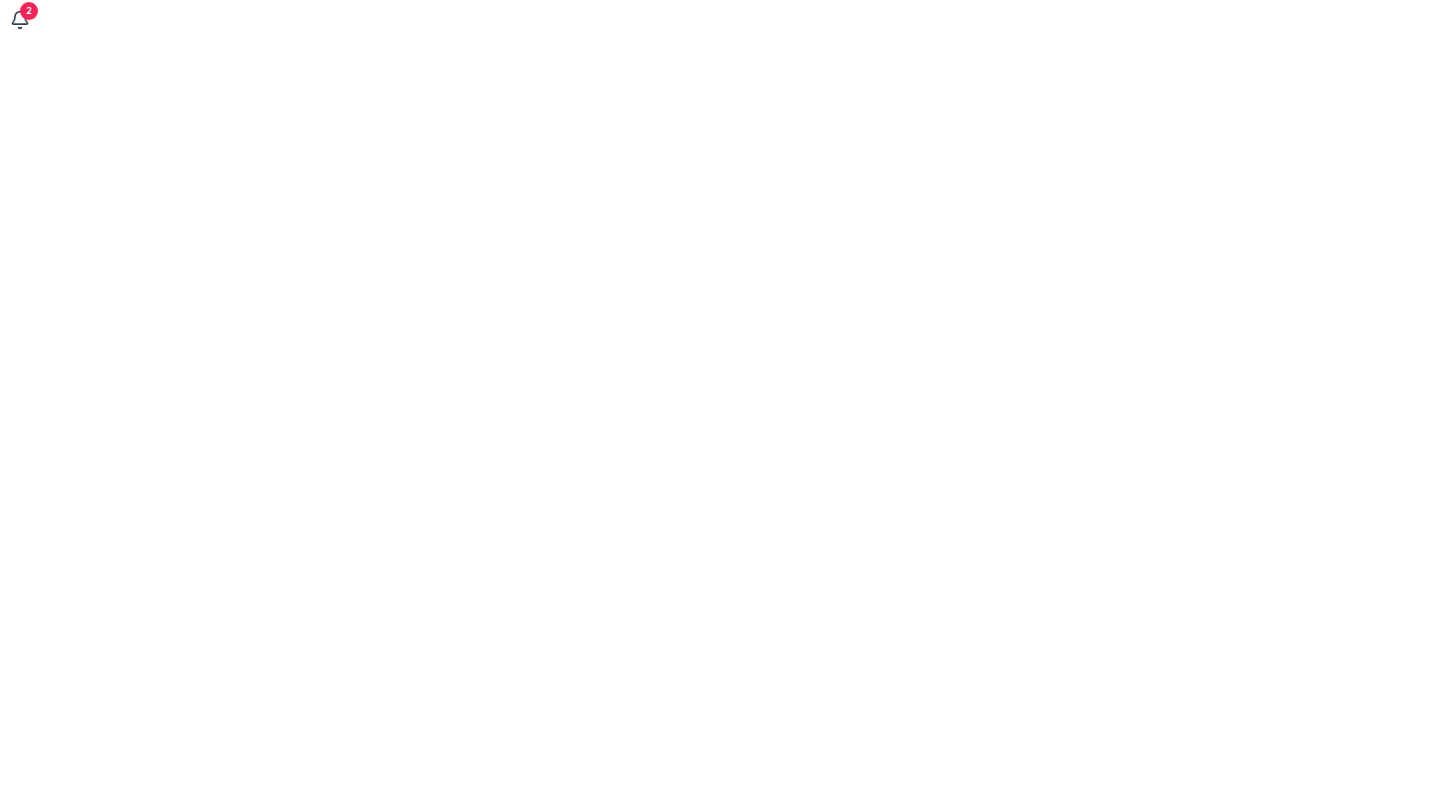
Test: NotificationBell › marks everything as read
Later steps or results of the test are not shown.
What coordinates should you click on to do the following:
click the button named "Notifications"
I would click on:
 (20, 20)
Its box is [0, 0, 40, 40].
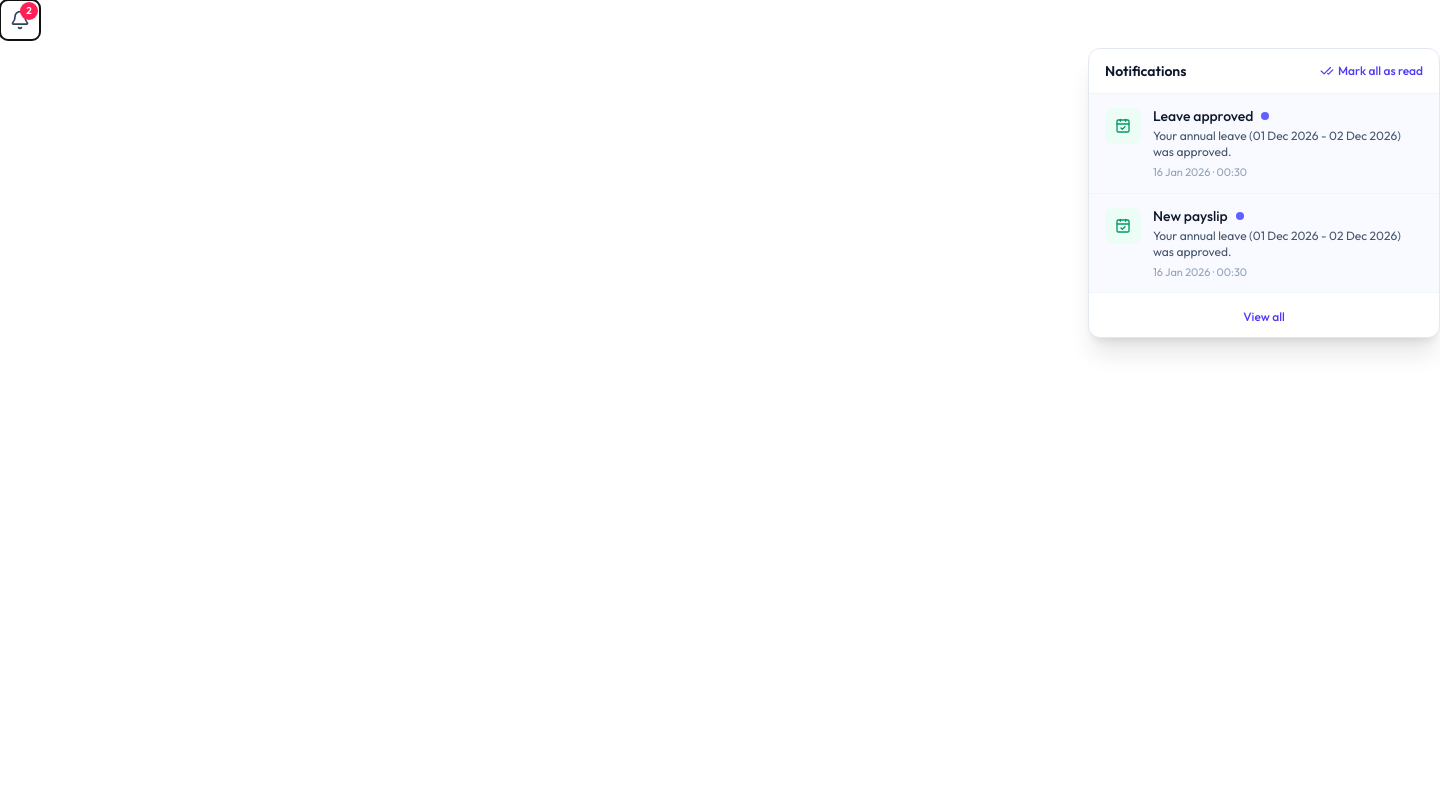
Expected: the text "Leave approved" is shown, [1153, 106, 1253, 126]
